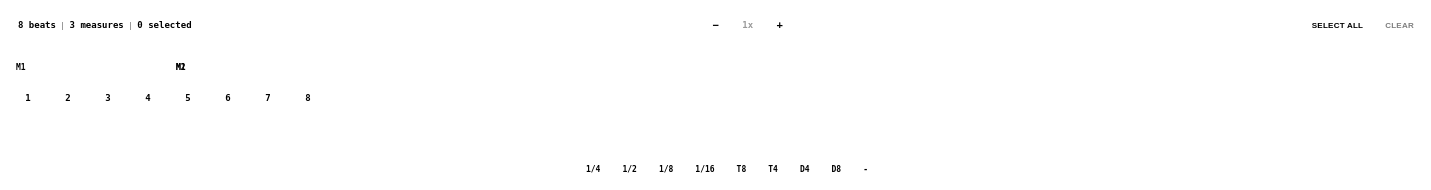
BeatSubdivisionGrid › Selection Display › updates selection count when beats are selected
The image size is (1431, 190).
# Click Select All
Click the button "Select All". click: click(1338, 25)
box: [1304,16,1371,34]
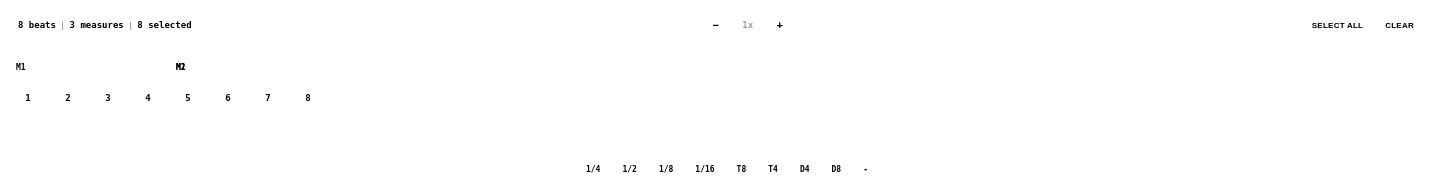
Now the text "8 selected" is shown, box [137,20,192,30]
